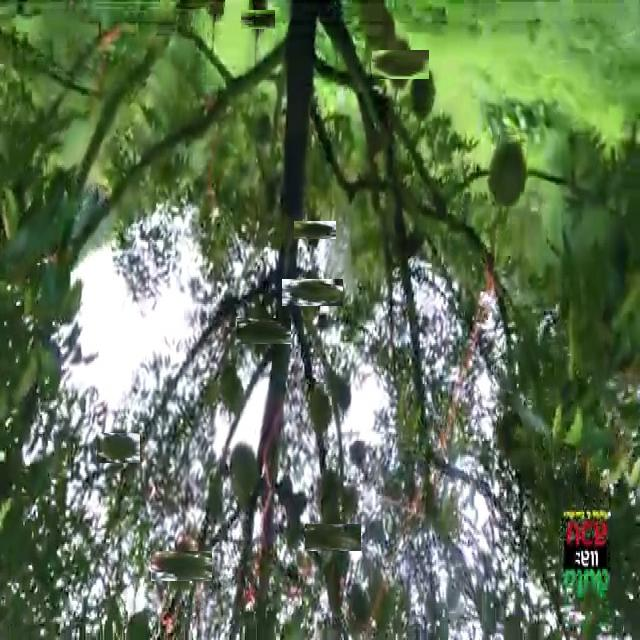durian: (488, 140, 530, 208), (227, 440, 262, 504), (408, 59, 441, 126), (290, 270, 335, 315), (159, 544, 204, 589), (379, 42, 422, 86), (312, 517, 354, 559), (243, 310, 284, 352), (101, 429, 137, 466), (307, 386, 332, 435), (299, 215, 330, 245), (245, 6, 272, 33)
